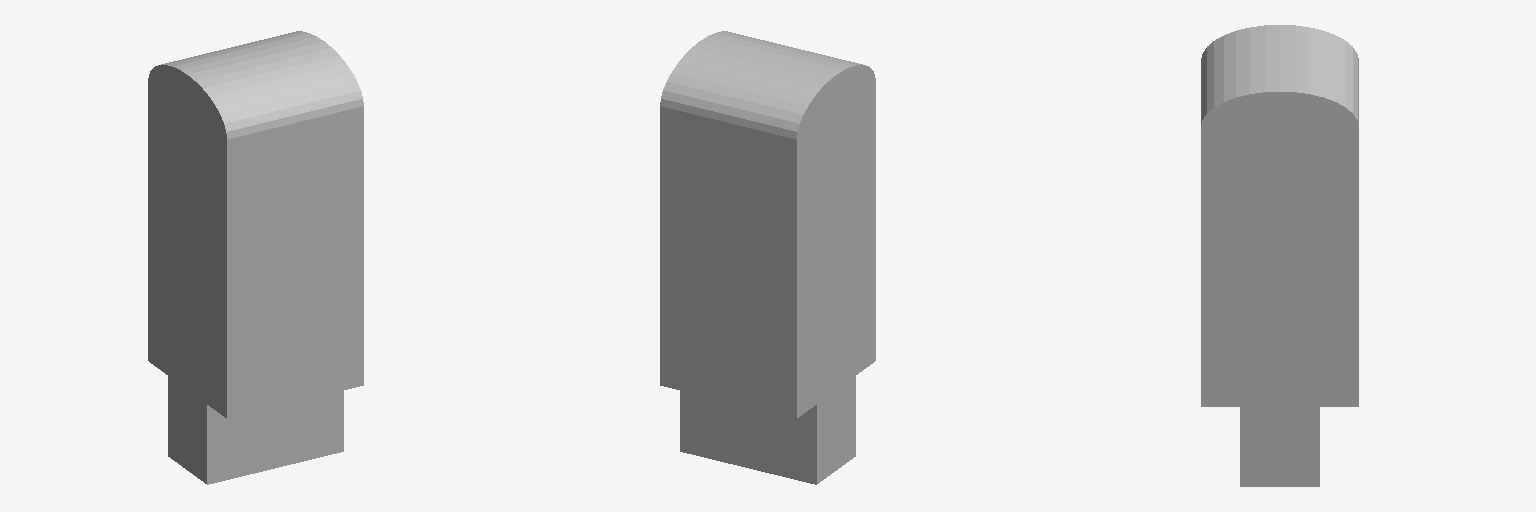
File: body_r_distal_pinvround.obj
The picture shows the model from 3 angles: view 1: azimuth 30°, elevation 25°; view 2: azimuth 150°, elevation 25°; view 3: azimuth 270°, elevation 25°; orthographic projection.
Parts seen in each view (by area): view 1: body_r_distal_pinvround_Cube.025; view 2: body_r_distal_pinvround_Cube.025; view 3: body_r_distal_pinvround_Cube.025.
Boxes of the visible parts, x1,y1,x2,y2 form: body_r_distal_pinvround_Cube.025: [148, 31, 363, 484]; body_r_distal_pinvround_Cube.025: [660, 31, 875, 484]; body_r_distal_pinvround_Cube.025: [1201, 25, 1358, 486].
Size of the model in its own units: 0.02 by 0.0553 by 0.02.